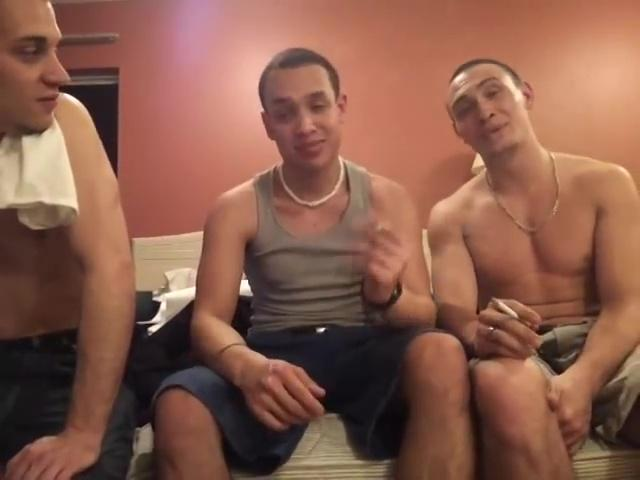cigarette: (492, 296, 520, 324)
